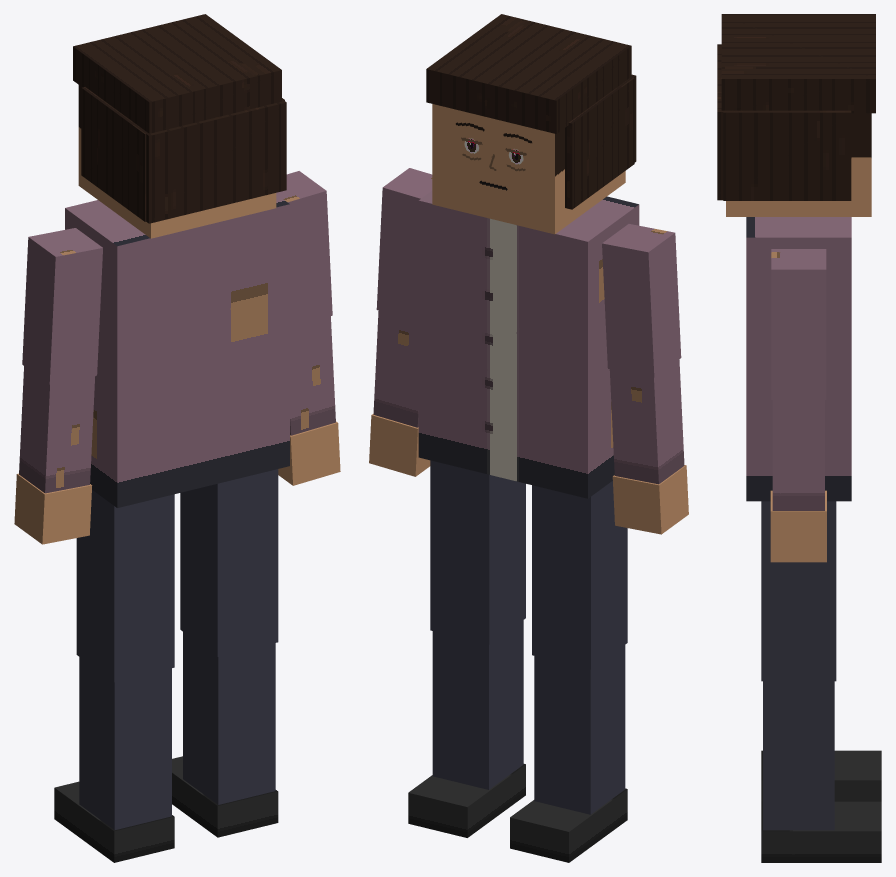
Rendered from mon_civilian_stationary.glb.
3 views of the same model, side by side, from view 1: azimuth 30°, elevation 25°; view 2: azimuth 150°, elevation 25°; view 3: azimuth 270°, elevation 25° (orthographic). The views are drawn at different scales.
Parts seen in each view (by area): view 1: block_torso, block_hair-cap, block_thigh.L, block_thigh.R, block_shin.L, block_shin.R, block_hair-bob, block_upper_arm.L, block_forearm.L, block_hair-side, block_upper_arm.R, block_forearm.R (+5 smaller); view 2: block_torso, block_hair-cap, block_thigh.L, block_thigh.R, block_head, block_shin.R, block_shin.L, block_upper_arm.L, block_forearm.L, block_hair-side, block_upper_arm.R, block_foot.R (+4 smaller); view 3: block_torso, block_hair-cap, block_hair-side, block_shin.R, block_thigh.R, block_upper_arm.R, block_forearm.R, block_foot.R, block_head, block_hand.R, block_foot.L, block_hair-bob.
Part boxes in pixels (<box>): block_torso: <box>65,194,289,507</box>; block_hair-cap: <box>73,14,281,133</box>; block_thigh.L: <box>76,490,174,682</box>; block_thigh.R: <box>180,469,278,656</box>; block_shin.L: <box>79,657,171,829</box>; block_shin.R: <box>183,632,275,804</box>; block_hair-bob: <box>131,99,286,223</box>; block_upper_arm.L: <box>22,228,102,384</box>; block_forearm.L: <box>19,366,95,493</box>; block_hair-side: <box>81,87,146,221</box>; block_upper_arm.R: <box>276,171,332,328</box>; block_forearm.R: <box>290,316,335,435</box>; block_torso: <box>418,191,639,498</box>; block_hair-cap: <box>426,14,631,133</box>; block_thigh.L: <box>532,481,627,669</box>; block_thigh.R: <box>430,460,525,644</box>; block_head: <box>432,104,625,234</box>; block_shin.R: <box>432,620,523,789</box>; block_shin.L: <box>534,645,625,814</box>; block_upper_arm.L: <box>602,224,681,377</box>; block_forearm.L: <box>609,359,684,484</box>; block_hair-side: <box>565,77,634,209</box>; block_upper_arm.R: <box>376,168,432,322</box>; block_foot.R: <box>408,764,525,837</box>; block_torso: <box>746,217,851,501</box>; block_hair-cap: <box>721,14,875,113</box>; block_hair-side: <box>723,110,851,200</box>; block_shin.R: <box>763,681,834,830</box>; block_thigh.R: <box>761,501,836,681</box>; block_upper_arm.R: <box>771,249,826,399</box>; block_forearm.R: <box>772,400,824,510</box>; block_foot.R: <box>761,801,881,862</box>; block_head: <box>726,113,871,216</box>; block_hand.R: <box>770,490,826,562</box>; block_foot.L: <box>761,750,881,801</box>; block_hair-bob: <box>717,44,755,200</box>.
Size of the model in its own units: 0.6908 by 1.71 by 0.3274.
1 material, 1 textured.
